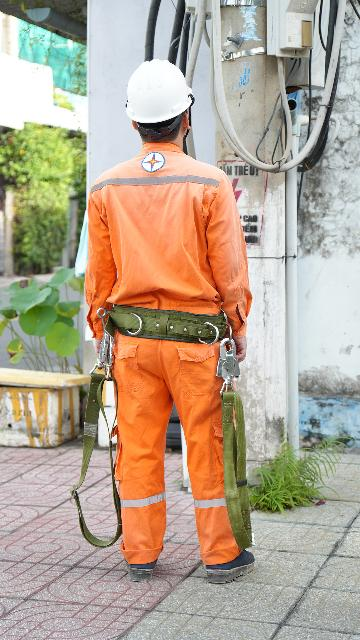harness: (86, 298, 236, 356)
helmet: (112, 58, 203, 126)
shoes: (114, 532, 176, 586), (194, 542, 269, 582)
